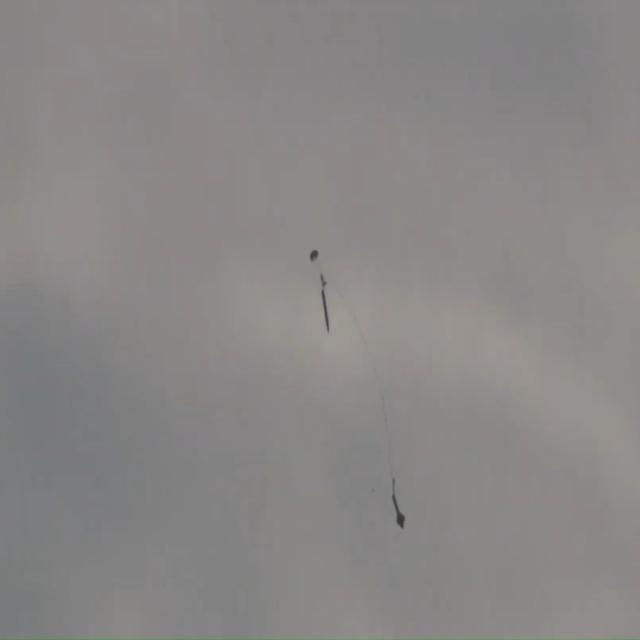Rocket: (392, 495, 406, 529)
